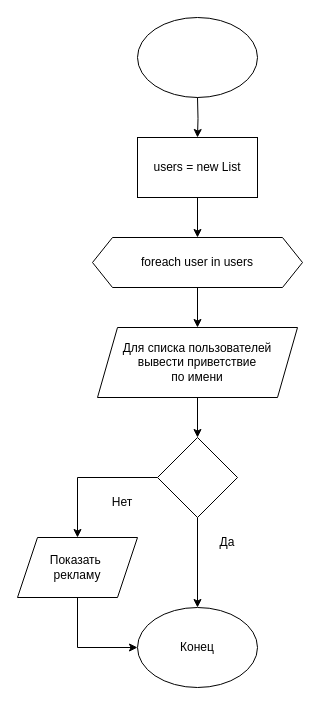
Some shapes in this 320 by 705 pixel diagram are drawn without their labels. The shapes that lost their labels are listed below. From the top down, each one's centre as x and y in pixels, then its label:
At point (197, 57): "Начало".
At point (197, 477): "IsPremium".
